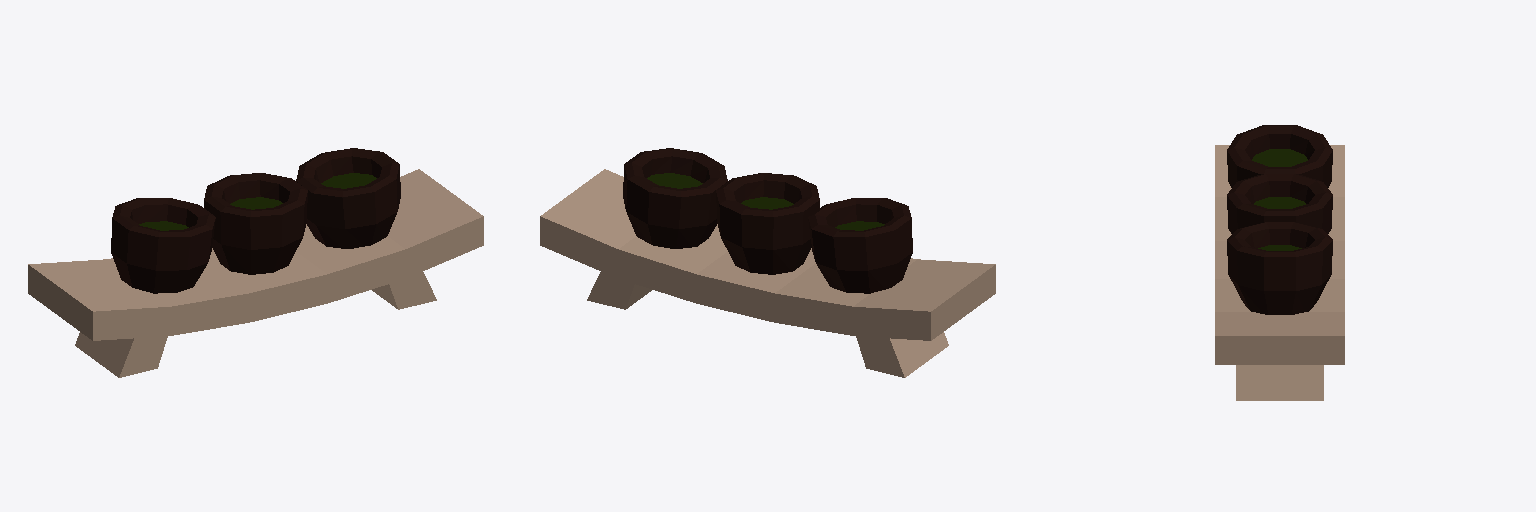
File: tray_decorated.obj
The picture shows the model from 3 angles: view 1: azimuth 30°, elevation 25°; view 2: azimuth 150°, elevation 25°; view 3: azimuth 270°, elevation 25°; orthographic projection.
Parts seen in each view (by area): view 1: tray_decorated_Cube.10808; view 2: tray_decorated_Cube.10808; view 3: tray_decorated_Cube.10808.
Part boxes in pixels (left/top/right/bottom): tray_decorated_Cube.10808: left=28, top=148, right=483, bottom=377; tray_decorated_Cube.10808: left=540, top=148, right=995, bottom=377; tray_decorated_Cube.10808: left=1215, top=125, right=1344, bottom=400.
Size of the model in its own units: 1.26 by 0.4113 by 0.3596.